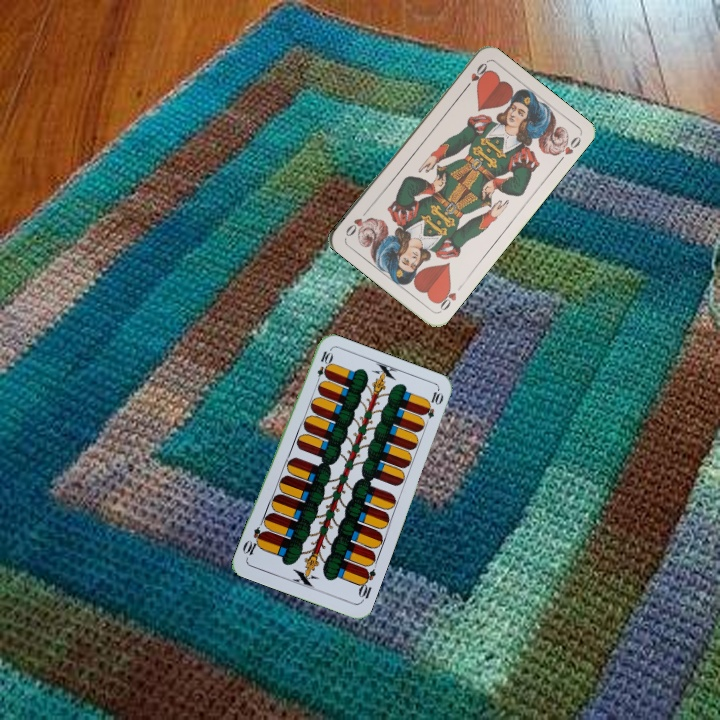E10: (354, 564, 378, 605), (312, 347, 334, 387)
HO: (432, 280, 466, 315), (460, 59, 490, 93)
